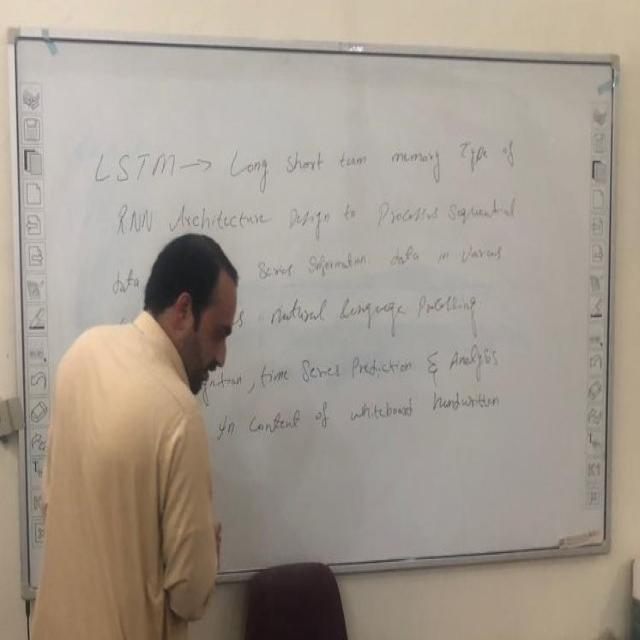Instructor: (57, 203, 236, 640)
White-board: (13, 34, 617, 598)
